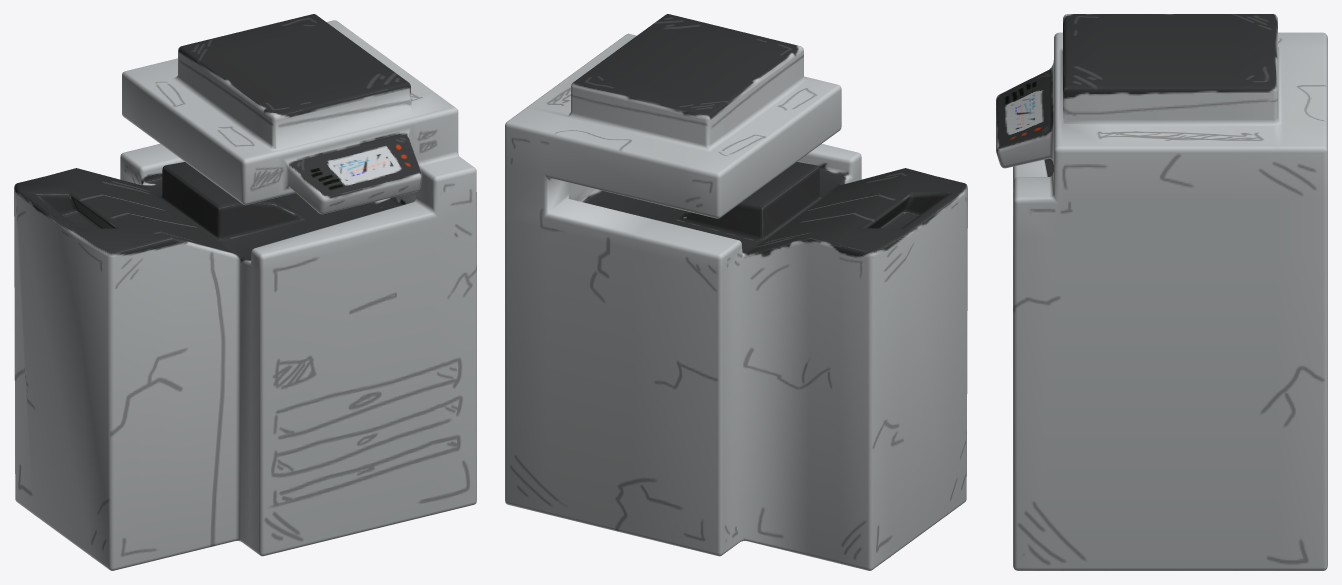
The model's file is F_Printer.fbx.
3 renders of one model, left to right at view 1: azimuth 30°, elevation 25°; view 2: azimuth 150°, elevation 25°; view 3: azimuth 270°, elevation 25°, orthographic. The views are drawn at different scales.
Visible parts, largest first — view 1: PrinterMash; view 2: PrinterMash; view 3: PrinterMash.
Part boxes in pixels (x1=…): PrinterMash: x1=14, y1=14, x2=476, y2=570; PrinterMash: x1=505, y1=14, x2=967, y2=570; PrinterMash: x1=996, y1=14, x2=1327, y2=570.
Size of the model in its own units: 26799 by 29530 by 19248.
